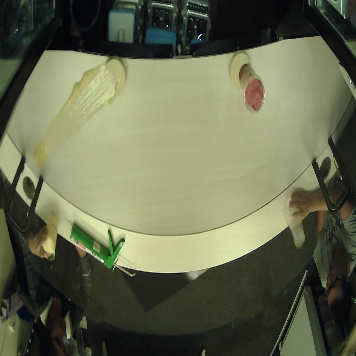empty_cup: (285, 188, 306, 248)
full_cup: (240, 64, 267, 114), (40, 211, 67, 261)
puck: (228, 50, 250, 89), (106, 57, 126, 96)
